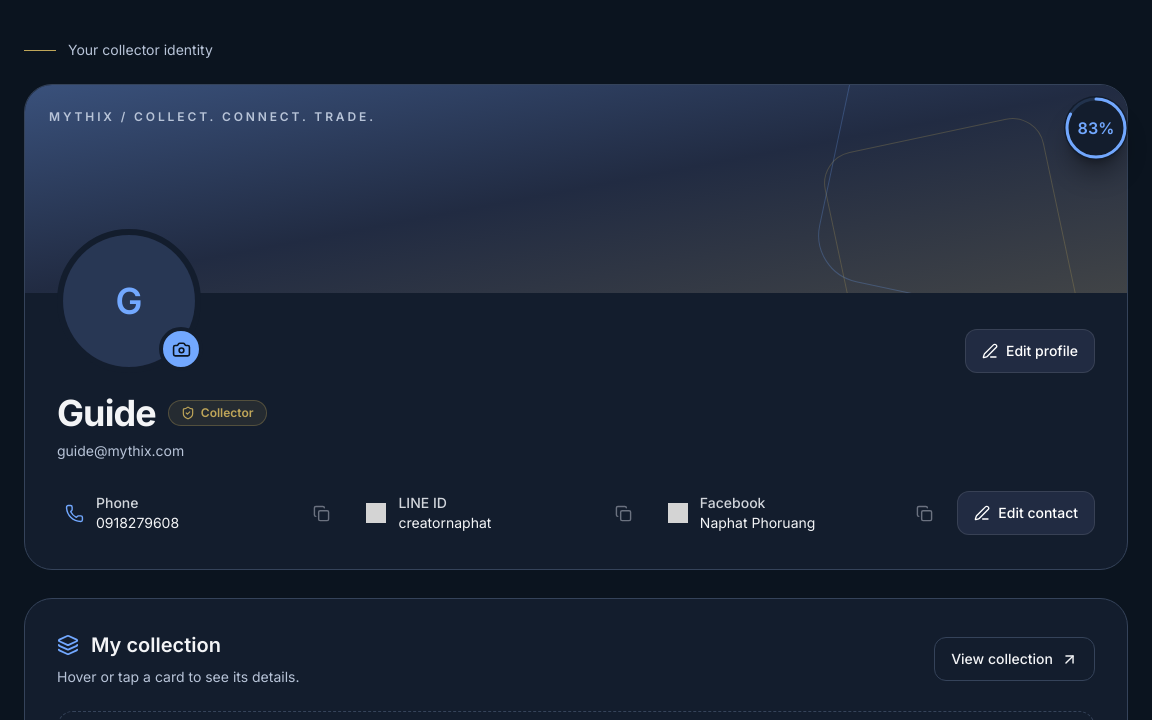
Test: ProfilePage editors › opens the contact editor in a separate modal
The width and height of the screenshot is (1152, 720).
Click the button "Edit contact" at (1026,513), box [957,491,1095,535]
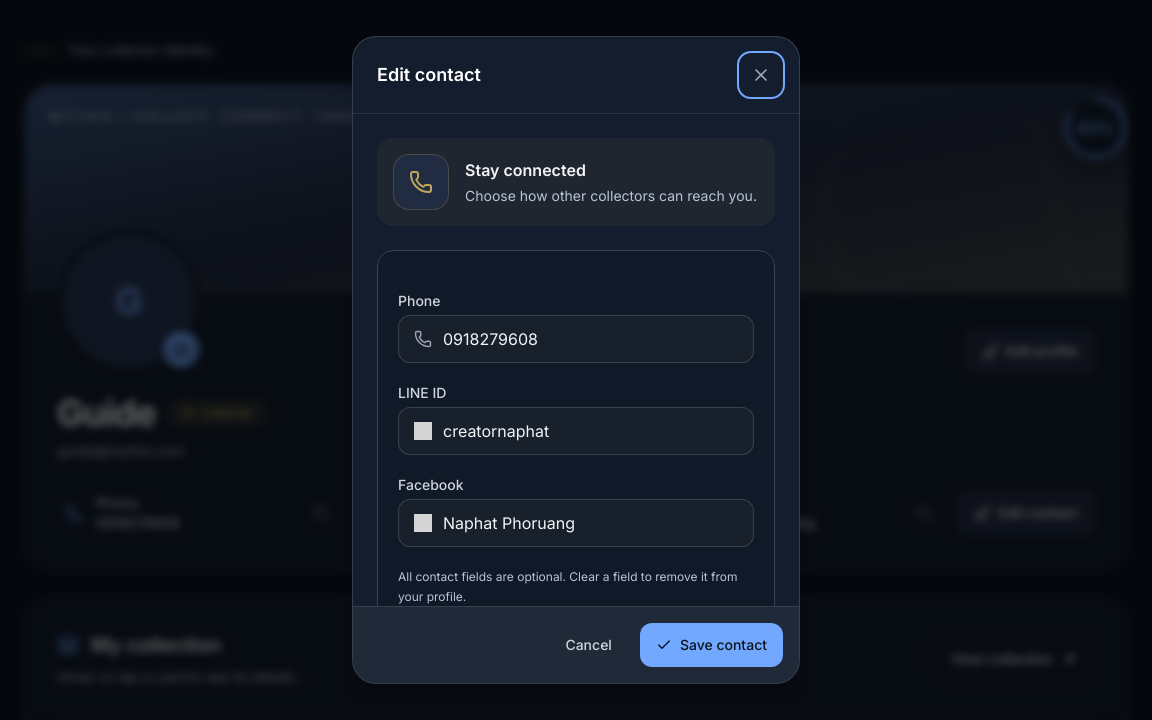
Check: the dialog "Edit contact" is shown, box [352,36,800,684]
Check: the field labelled "Phone" holds "0918279608", box [398,315,754,363]
